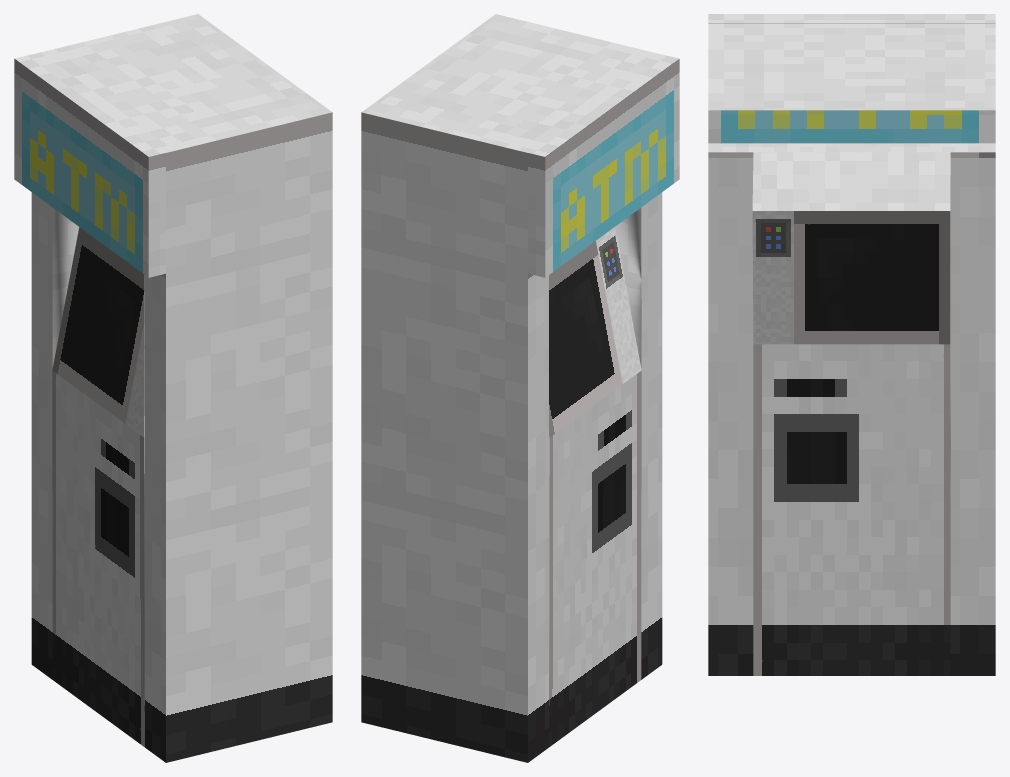
Rendered from BGN_ATM.fbx.
The picture shows the model from 3 angles, left to right: view 1: azimuth 30°, elevation 25°; view 2: azimuth 150°, elevation 25°; view 3: azimuth 270°, elevation 25°; orthographic projection. The views are drawn at different scales.
Visible parts, largest first — view 1: BGN_ATM; view 2: BGN_ATM; view 3: BGN_ATM.
Part boxes in pixels (left/top/right/bottom): BGN_ATM: left=14, top=14, right=332, bottom=762; BGN_ATM: left=361, top=14, right=679, bottom=762; BGN_ATM: left=708, top=14, right=995, bottom=675.
Size of the model in its own units: 122 by 387 by 154.
